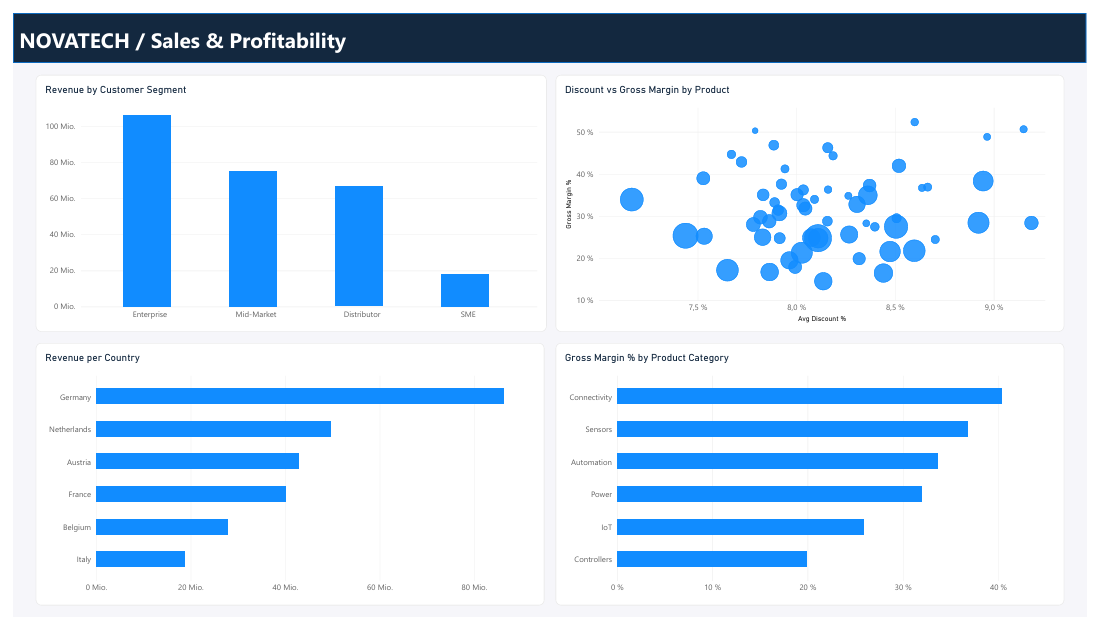

This screenshot's page, from the dashboard's own definition file:
{"tool":"powerbi","page":{"name":"Sales & Profitibility","canvas":[1920,1080],"ordinal":1},"visuals":[{"type":"clusteredColumnChart","title":"Revenue by Customer Segment","fields":{"Category":["customer_performance.customer_segment"],"Y":["Sum(customer_performance.revenue)"]},"box":[40,110,914,460],"z":0},{"type":"clusteredBarChart","title":"Revenue per Country","fields":{"Category":["public vw_sales_lines.country"],"Y":["Sum(public vw_sales_lines.revenue)"]},"box":[40,590,910,470],"z":1000},{"type":"barChart","title":"Gross Margin % by Product Category","fields":{"Category":["public vw_sales_lines.product_category"],"Y":["customer_performance.Gross Margin %"]},"box":[970,590,910,470],"z":2000},{"type":"scatterChart","title":"Discount vs Gross Margin by Product","fields":{"Category":["public vw_sales_lines.product_name"],"Size":["customer_performance.Total Revenue"],"X":["public vw_sales_lines.Avg Discount %"],"Y":["customer_performance.Gross Margin %"]},"box":[970,110,910,460],"z":3000},{"type":"group","id":"g1","title":"Gruppe 1","box":[0,0,1919.2,88.5],"z":3002},{"type":"shape","box":[0,0,1919.2,88.5],"z":12000,"group":"g1"},{"type":"textbox","box":[0,22.1,1919.2,66.3],"z":13000,"group":"g1"}]}

Visuals, with their boxes in screenshot pixels (x1, y1, x2, y2), scaled from the page's 1920x1080 canvas onto the 1101x631 screenshot:
"Revenue by Customer Segment" clusteredColumnChart: {"left": 23, "top": 64, "right": 547, "bottom": 333}
"Revenue per Country" clusteredBarChart: {"left": 23, "top": 345, "right": 545, "bottom": 619}
"Gross Margin % by Product Category" barChart: {"left": 556, "top": 345, "right": 1078, "bottom": 619}
"Discount vs Gross Margin by Product" scatterChart: {"left": 556, "top": 64, "right": 1078, "bottom": 333}
"Gruppe 1" group: {"left": 0, "top": 0, "right": 1100, "bottom": 52}
shape: {"left": 0, "top": 0, "right": 1100, "bottom": 52}
textbox: {"left": 0, "top": 13, "right": 1100, "bottom": 52}
